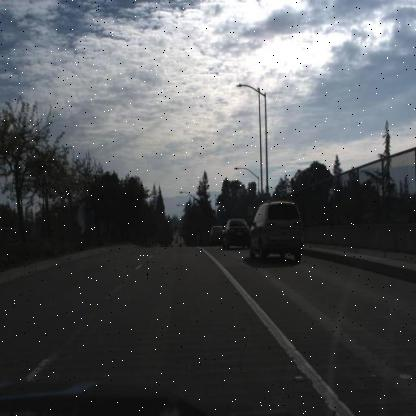car: (249, 198, 302, 263), (221, 217, 251, 249), (222, 218, 249, 251), (207, 224, 224, 245), (210, 224, 221, 246)
